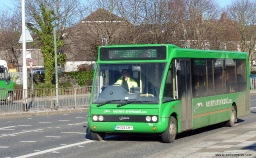bus: (87, 43, 256, 141)
